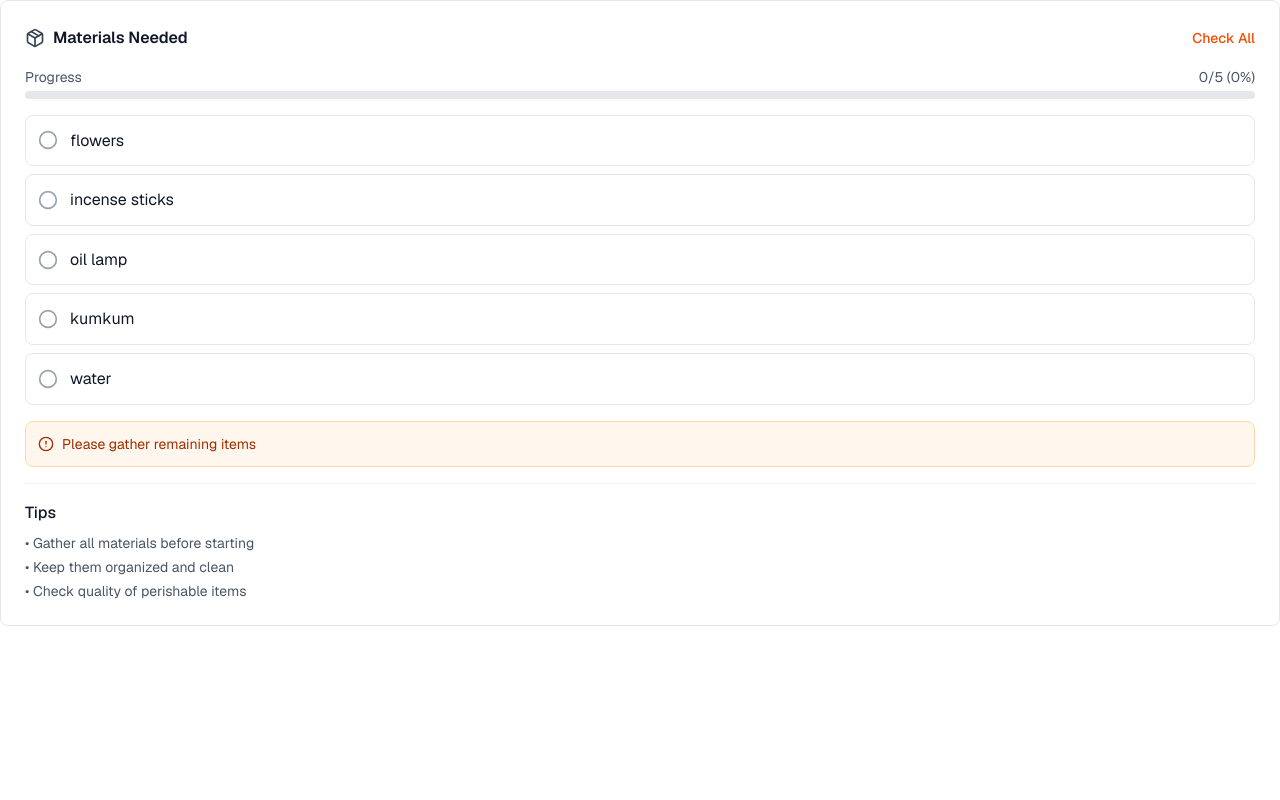
MaterialsChecklist › updates progress when items are checked
Click the button "flowers".
click(97, 140)  # box [25, 115, 1255, 166]
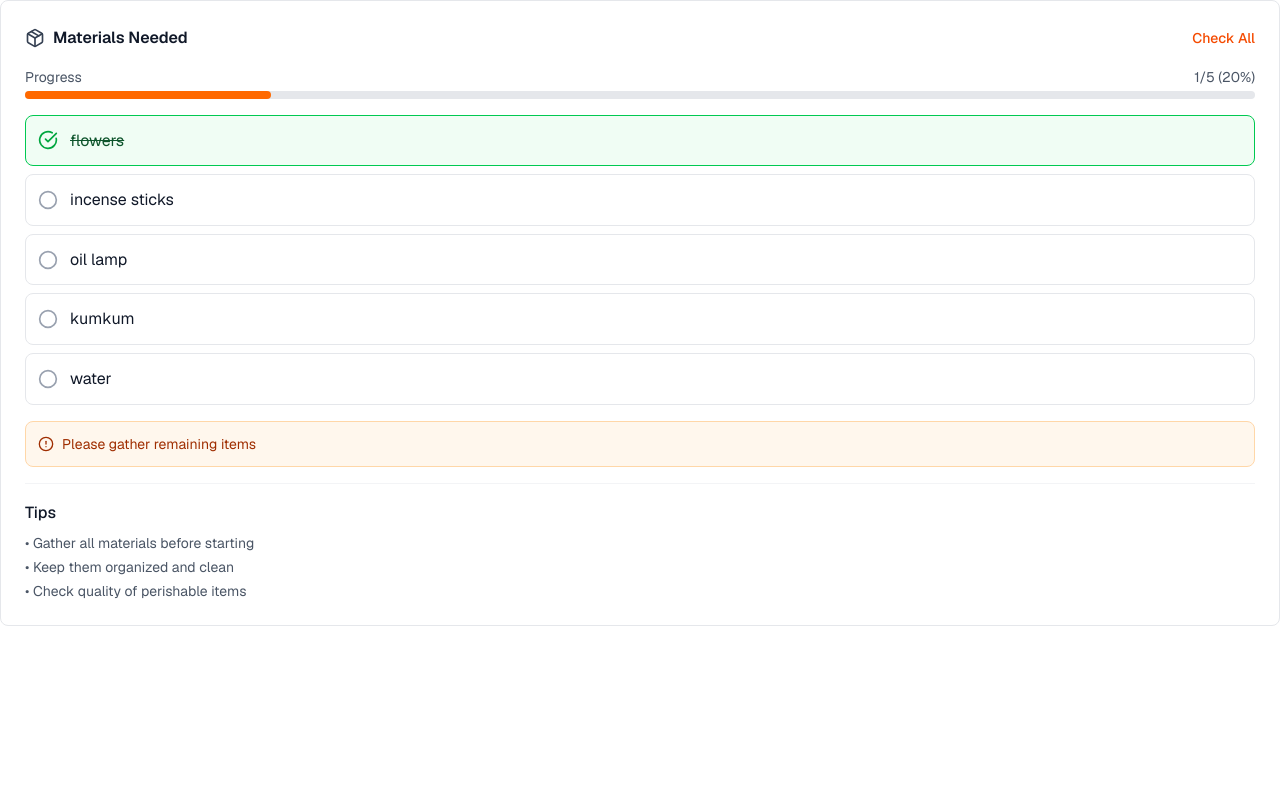
Expected: the text "1/5 (20%)" is shown, [1194, 67, 1255, 87]
